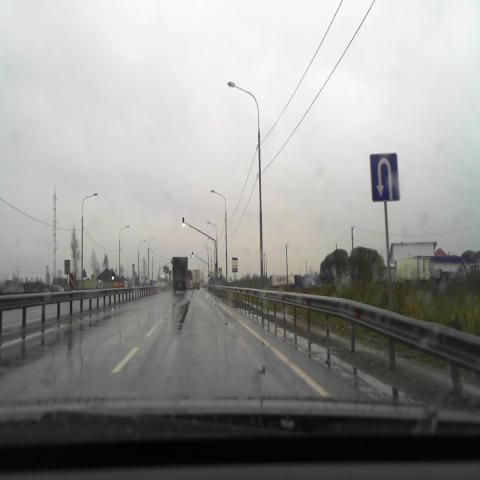6_3_1: (370, 153, 400, 202)
